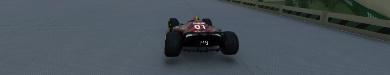Car: (163, 15, 239, 57)
obstacles-Borders: (218, 0, 389, 45)
